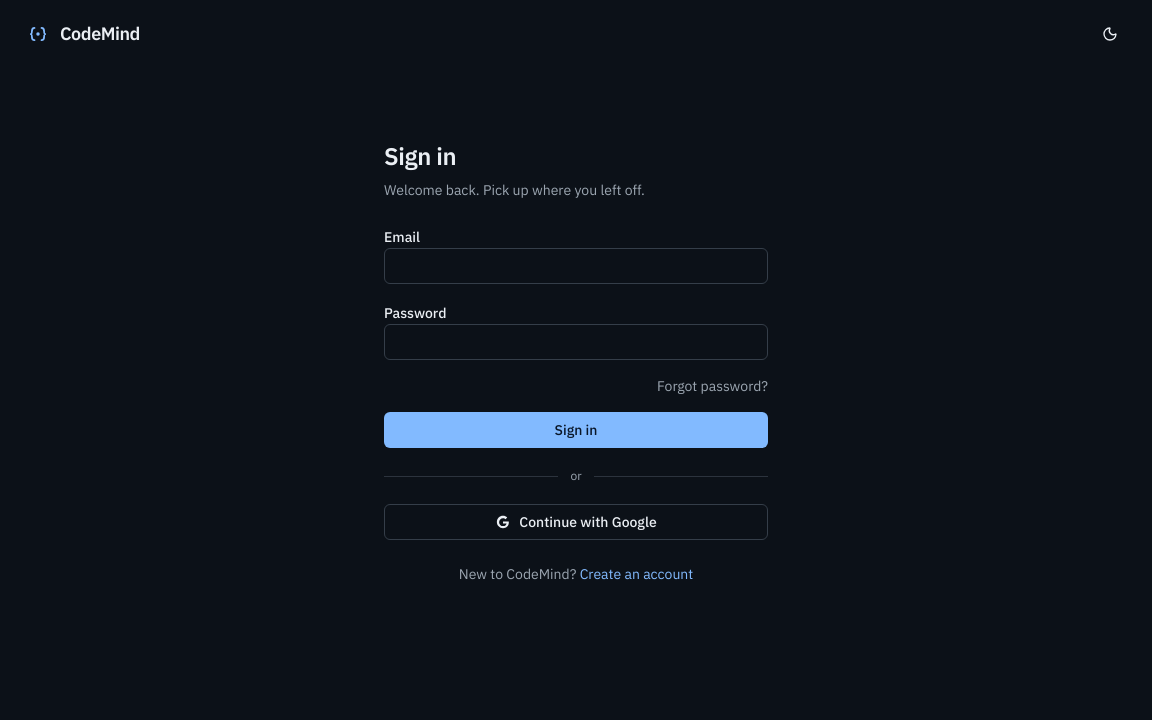
Test case: LoginPage › shows a friendly message for wrong credentials without leaking the Firebase code
Type "a@b.co" into the field labelled "Email".
click(576, 266); type("a@b.co")  # box [384,248,768,284]
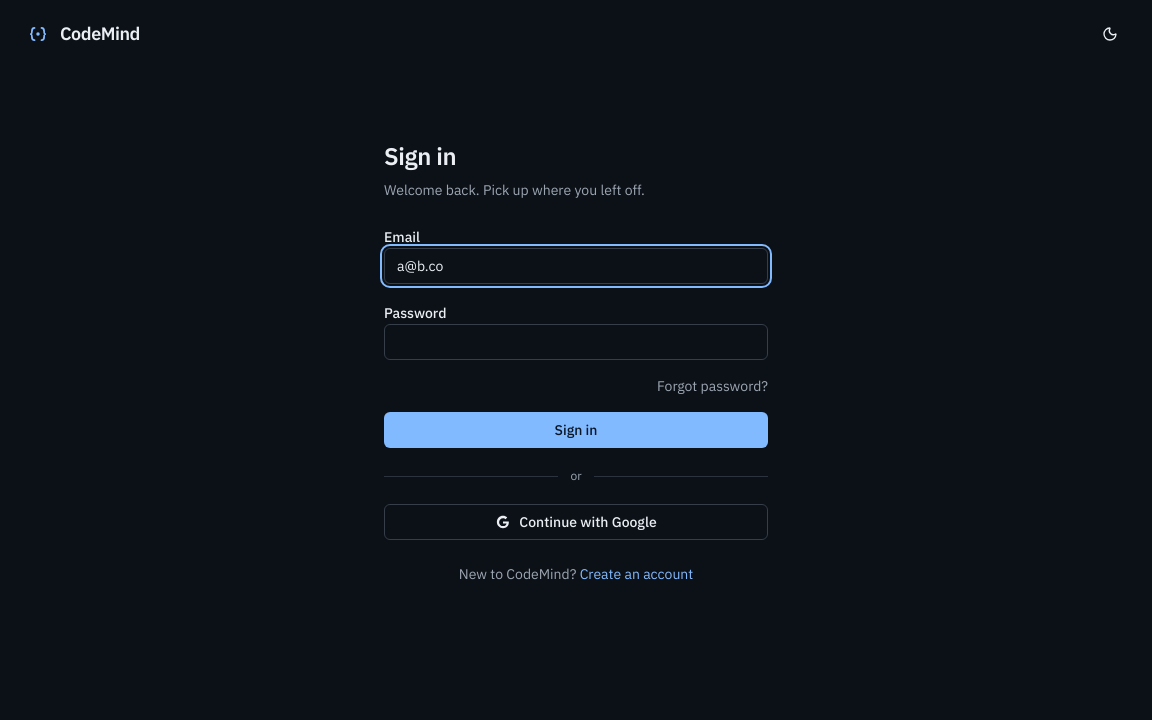
Type "x" into the password field labelled "Password".
click(576, 342); type("x")  # box [384,324,768,360]
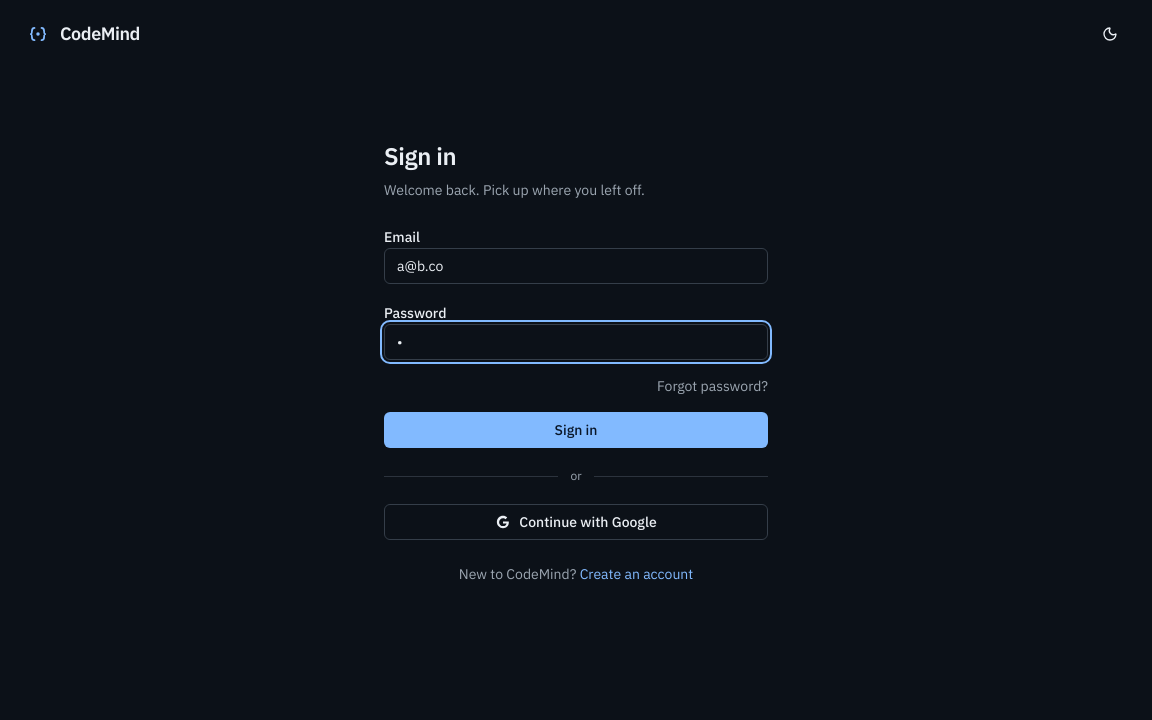
Click the button "Sign in".
click(576, 430)  # box [384,412,768,448]
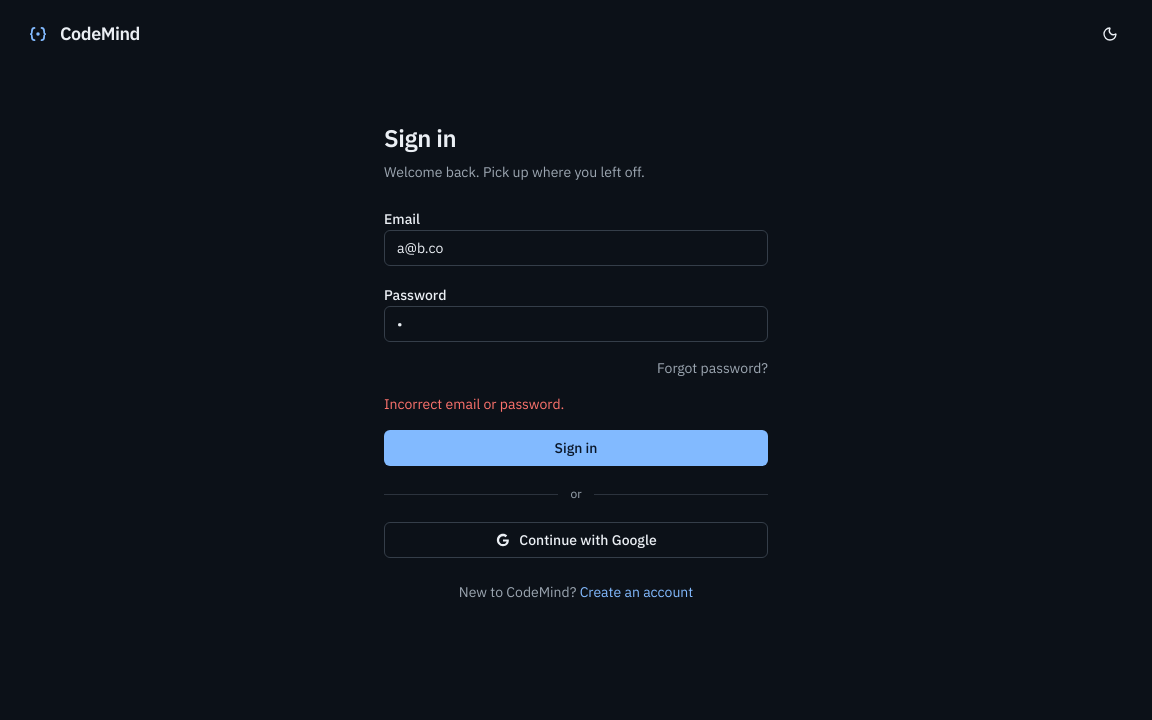
Now the text "Incorrect email or password." is shown, box [384,395,564,413]
